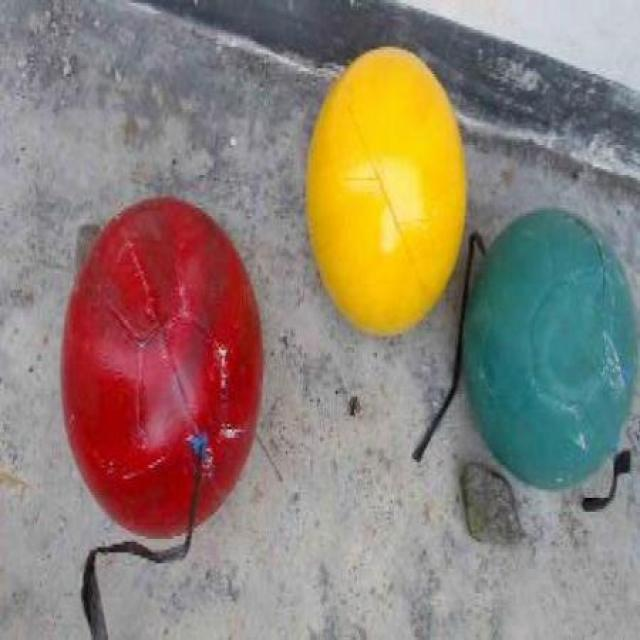buoy: (58, 194, 264, 538), (463, 203, 639, 491), (306, 42, 466, 335)
